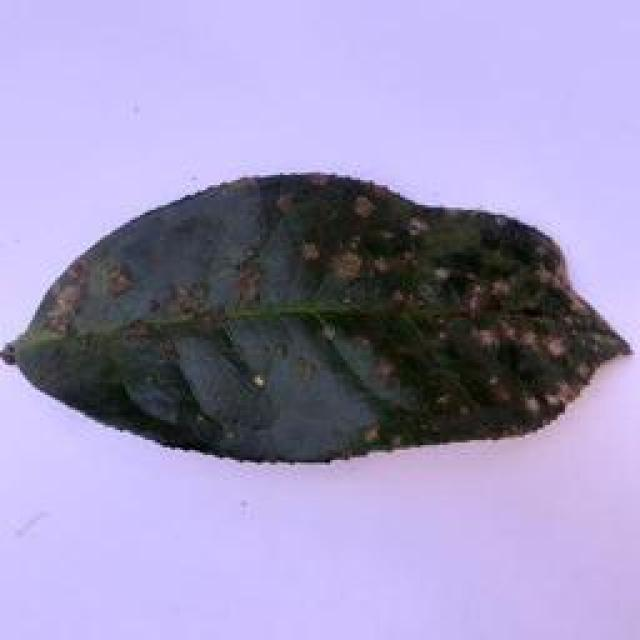Algal Leaf Spot: (2, 146, 640, 485)
